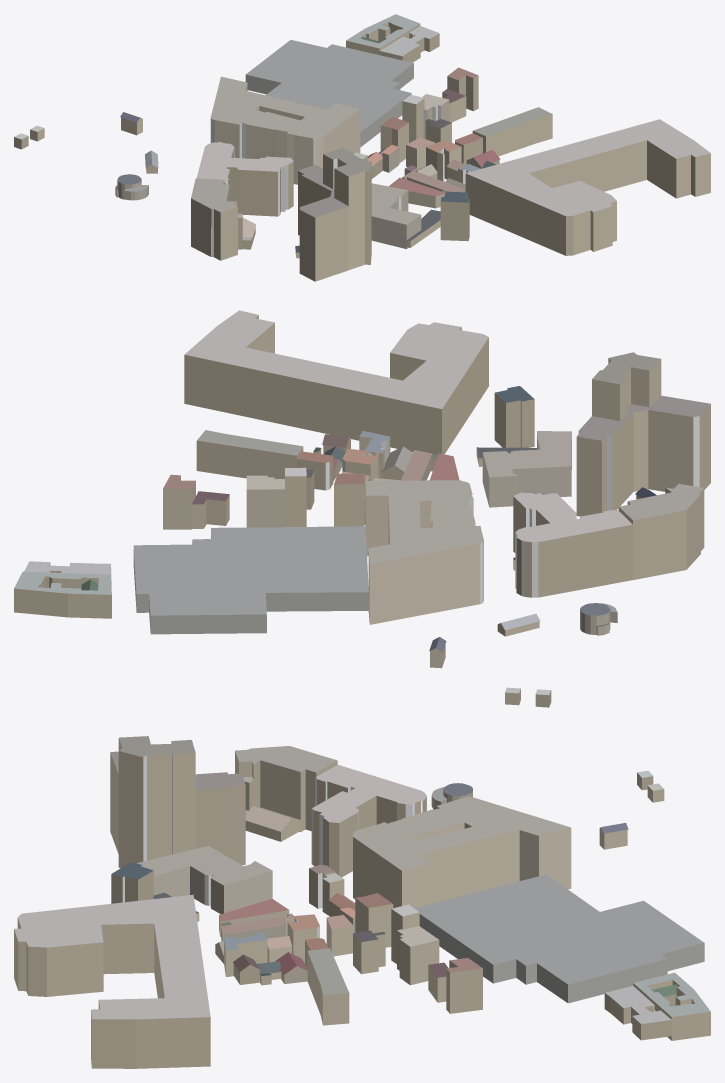
3 views of the same model, one above another, from view 1: azimuth 30°, elevation 25°; view 2: azimuth 150°, elevation 25°; view 3: azimuth 270°, elevation 25° (orthographic). The views are drawn at different scales.
Visible parts, largest first — view 1: tuile; view 2: tuile; view 3: tuile.
Boxes of the visible parts, x1,y1,x2,y2 form: tuile: (14,14,710,281); tuile: (14,310,710,707); tuile: (14,736,710,1068).
Bounding box in the file's own units: 290 × 58.66 × 297.
